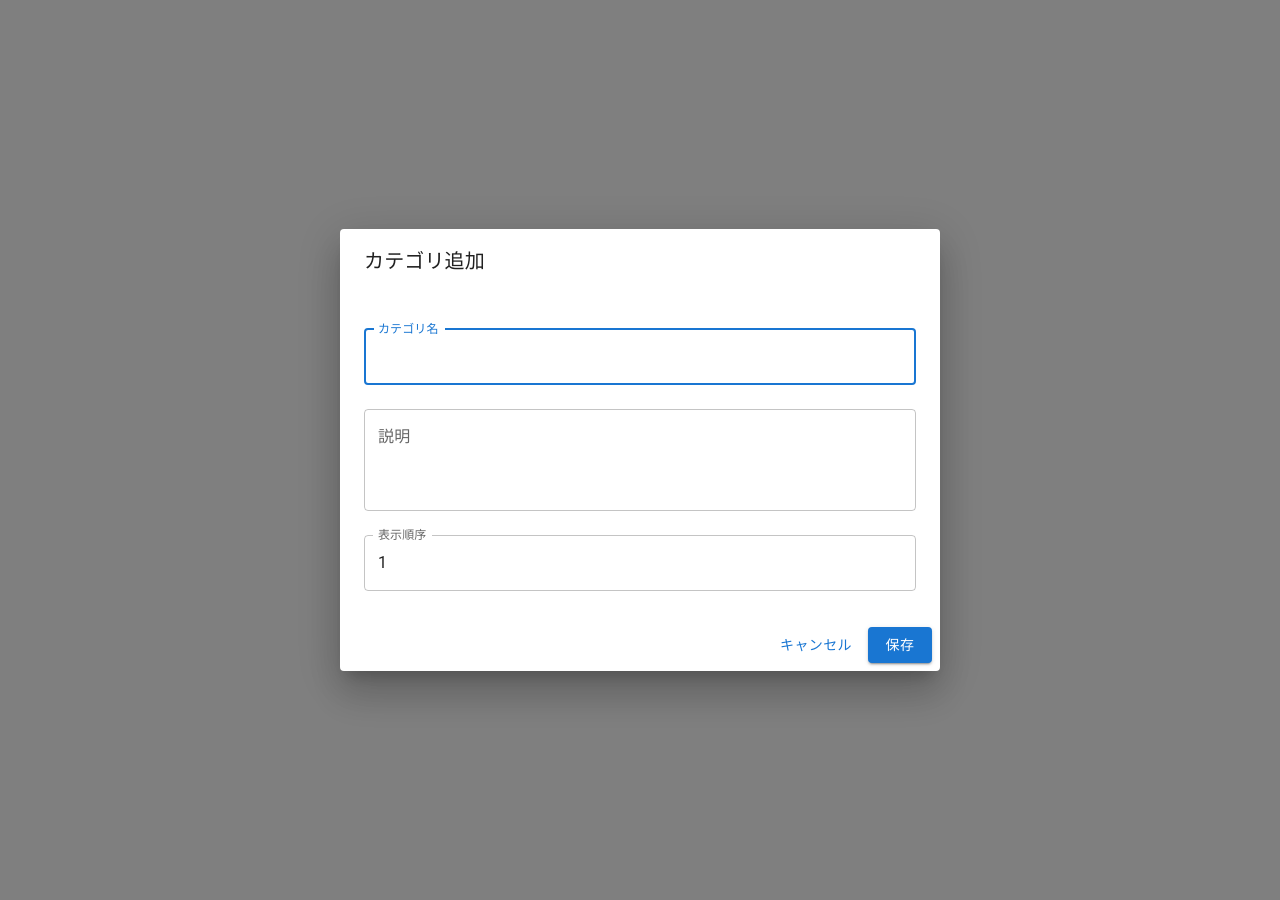
it: CategoryForm › should validate minimum value for displayOrder
The width and height of the screenshot is (1280, 900).
Replace the text in the number field labelled "表示順序" with "0" at (640, 563), box [364,535,916,591]
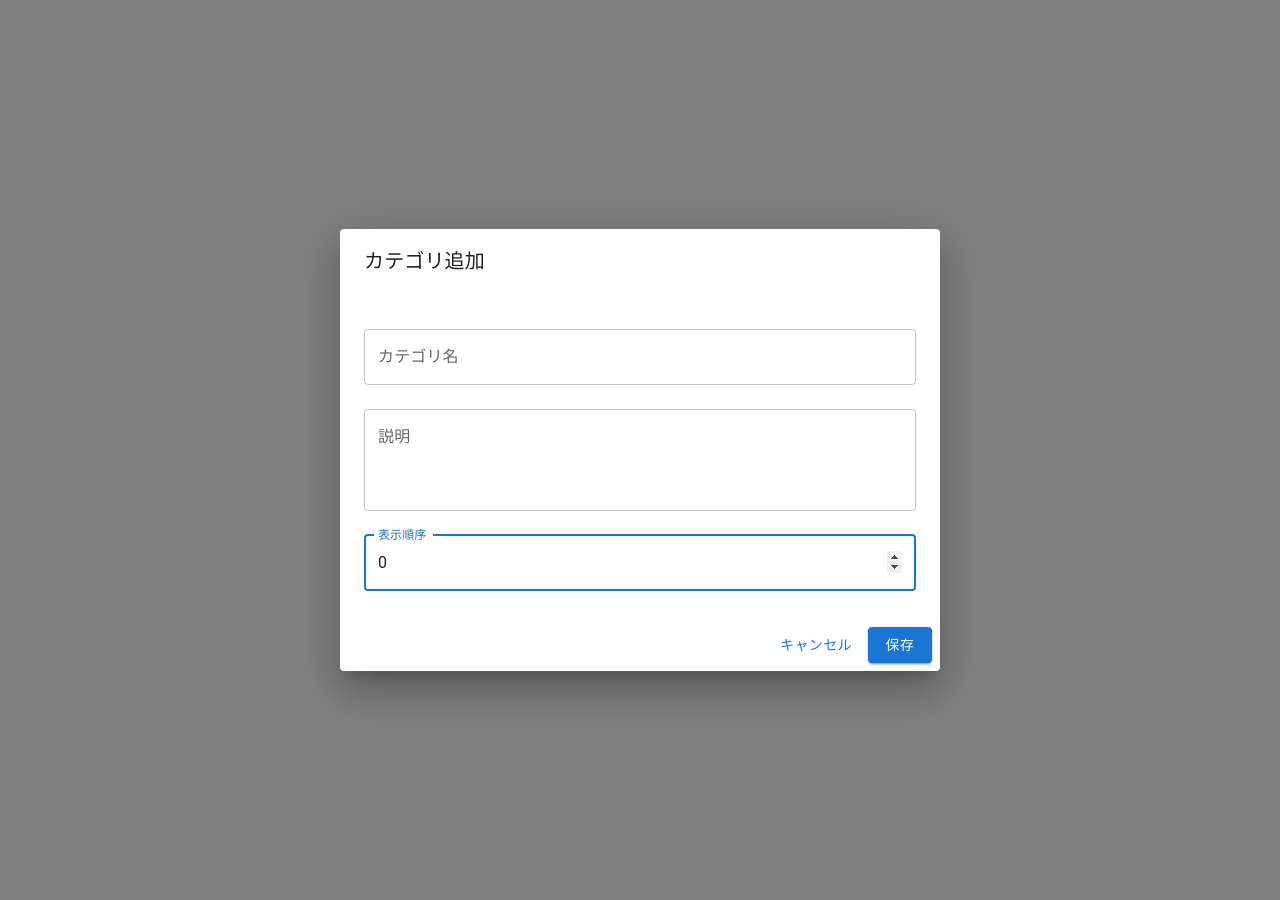
Click the button "保存" at (900, 645), box [868,627,932,663]
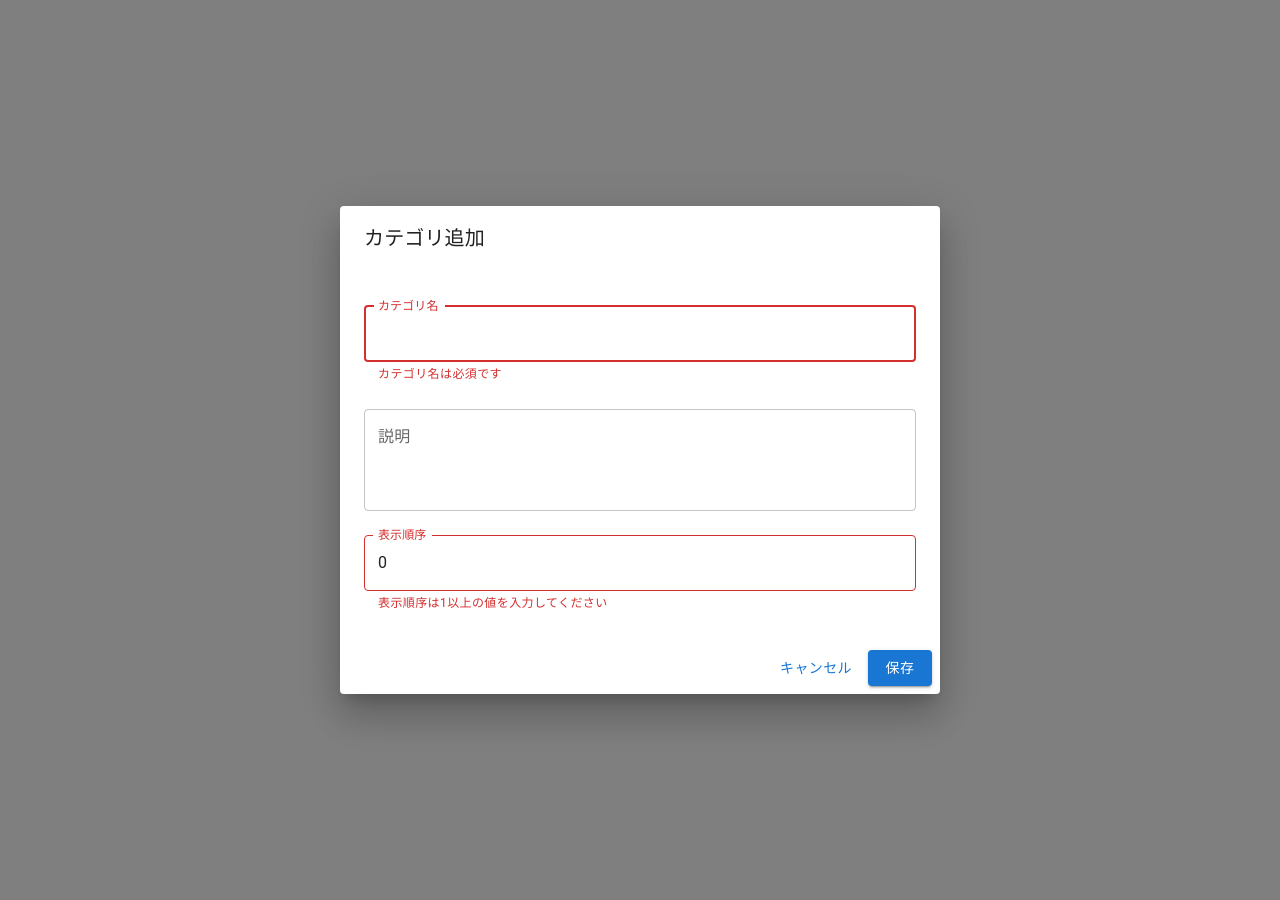
Expected: the text "表示順序は1以上の値を入力してください" is shown, [378,596,608,610]
